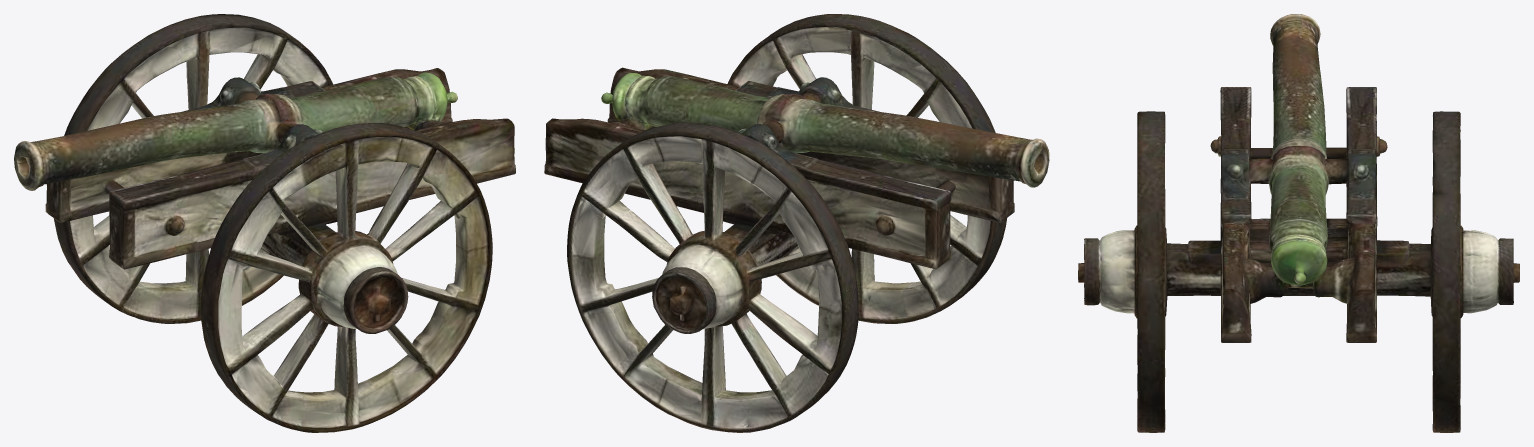
File: sikh-cannon.glb
3 views of the same model, side by side, from view 1: azimuth 30°, elevation 25°; view 2: azimuth 150°, elevation 25°; view 3: azimuth 270°, elevation 25° (orthographic).
Visible parts, largest first — view 1: mesh_node; view 2: mesh_node; view 3: mesh_node.
Part boxes in pixels (left/top/right/bottom): mesh_node: left=14, top=14, right=515, bottom=432; mesh_node: left=544, top=14, right=1049, bottom=432; mesh_node: left=1078, top=14, right=1519, bottom=432.
Bounding box in the file's own units: 1.3 × 0.8 × 1.1.
1 material, 1 textured.
